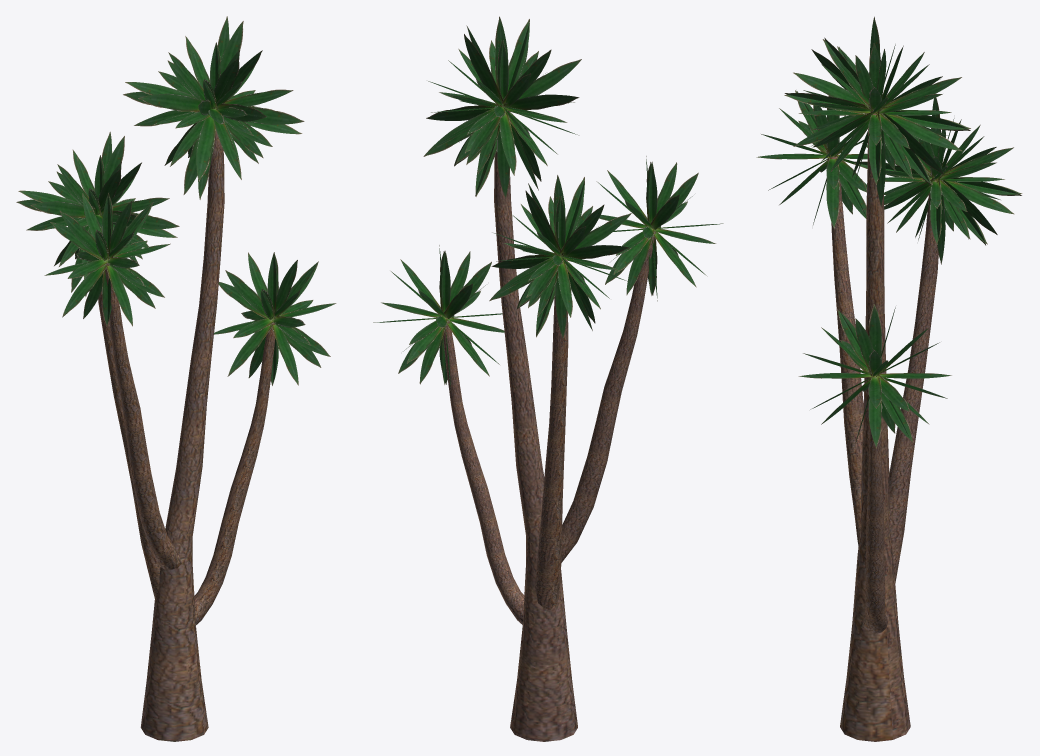
File: tree-04.fbx
3 views of the same model, side by side, from view 1: azimuth 30°, elevation 25°; view 2: azimuth 150°, elevation 25°; view 3: azimuth 270°, elevation 25° (orthographic). The views are drawn at different scales.
Visible parts, largest first — view 1: Cylinder; view 2: Cylinder; view 3: Cylinder.
Boxes of the visible parts, x1=… form: Cylinder: x1=16, y1=16, x2=336, y2=741; Cylinder: x1=373, y1=16, x2=723, y2=741; Cylinder: x1=756, y1=16, x2=1022, y2=741.
Size of the model in its own units: 3.28 by 6.85 by 2.33.
